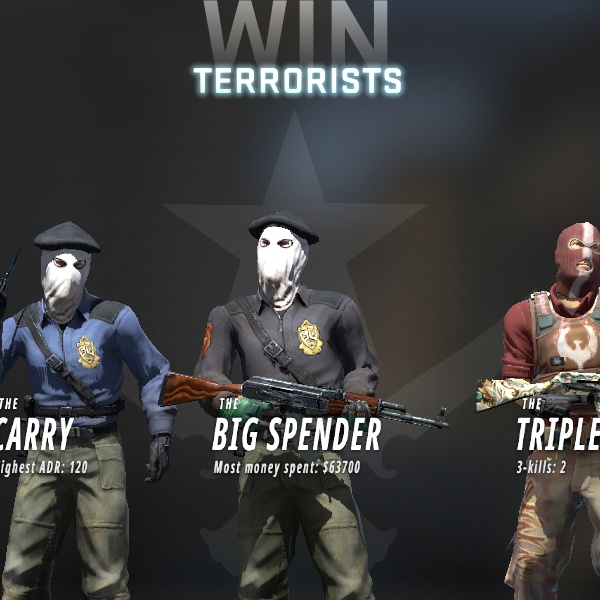t_head: (535, 201, 600, 321)
